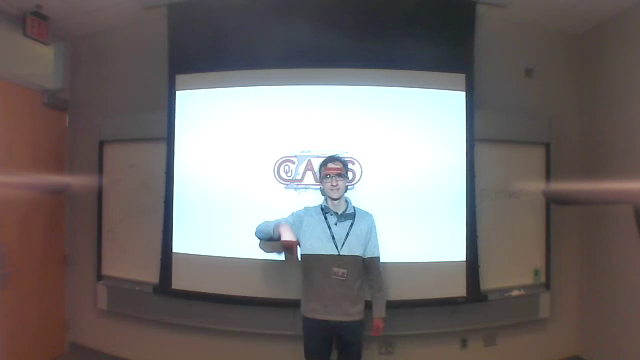down: (275, 225, 303, 262)
